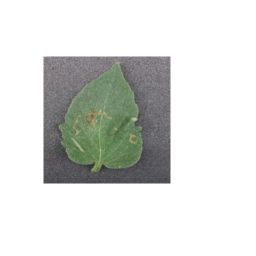liriomyza: (70, 106, 112, 154), (128, 133, 136, 145)
